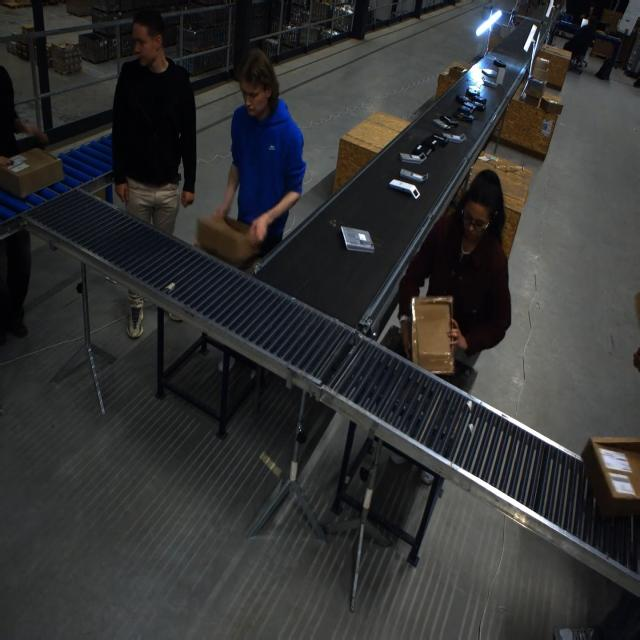box: (402, 292, 461, 384), (580, 437, 640, 520), (199, 202, 267, 266), (0, 148, 62, 199), (598, 447, 632, 472), (523, 76, 545, 100), (539, 93, 563, 115)
product: (340, 226, 375, 254), (410, 133, 448, 158), (389, 178, 420, 198), (398, 168, 427, 183), (398, 153, 424, 165), (441, 132, 467, 143), (455, 94, 477, 106), (439, 114, 459, 127), (494, 64, 506, 85), (468, 98, 486, 111), (455, 111, 474, 122), (458, 103, 474, 115), (480, 78, 498, 88), (481, 68, 497, 79), (467, 86, 481, 97), (493, 59, 506, 68)
